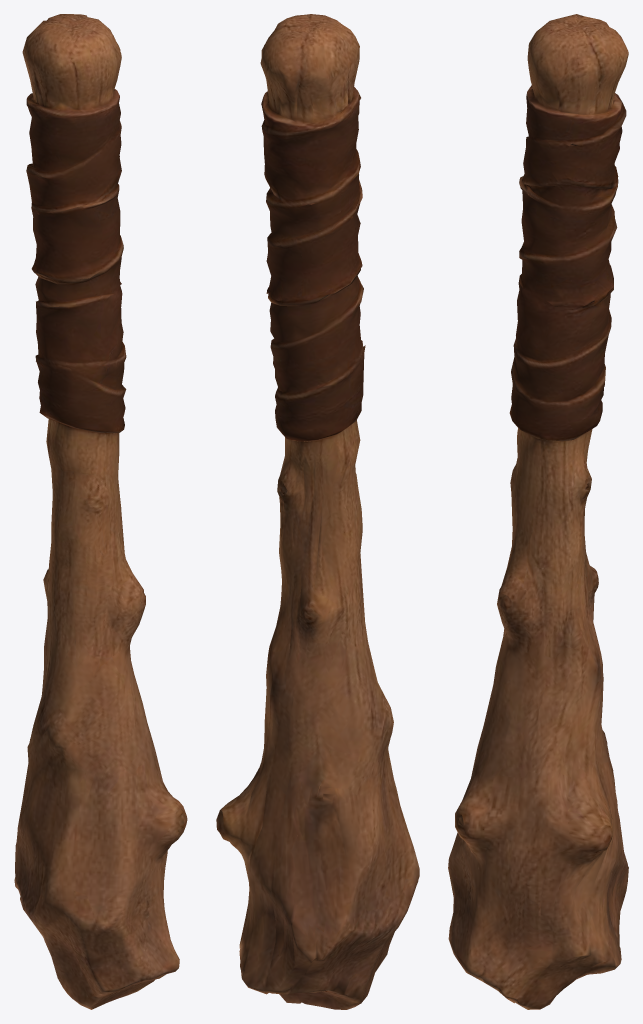
The model's file is club_normal.glb.
3 renders of one model, left to right at view 1: azimuth 30°, elevation 25°; view 2: azimuth 150°, elevation 25°; view 3: azimuth 270°, elevation 25°, orthographic. The views are drawn at different scales.
Visible parts, largest first — view 1: tripo_node_ca007a29-75f8-4ad7-b275-d0fdfdc1b772; view 2: tripo_node_ca007a29-75f8-4ad7-b275-d0fdfdc1b772; view 3: tripo_node_ca007a29-75f8-4ad7-b275-d0fdfdc1b772.
Part boxes in pixels (x1,y1,x2,y2): tripo_node_ca007a29-75f8-4ad7-b275-d0fdfdc1b772: [14, 14, 187, 1009]; tripo_node_ca007a29-75f8-4ad7-b275-d0fdfdc1b772: [216, 14, 419, 1009]; tripo_node_ca007a29-75f8-4ad7-b275-d0fdfdc1b772: [448, 14, 628, 1009].
Size of the model in its own units: 0.2455 by 1.56 by 0.2655.
1 material, 1 textured.
